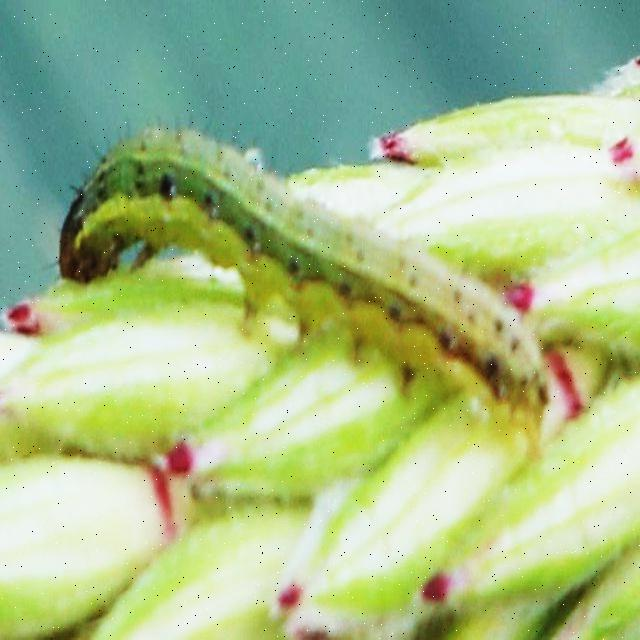worm: (58, 121, 554, 421)
